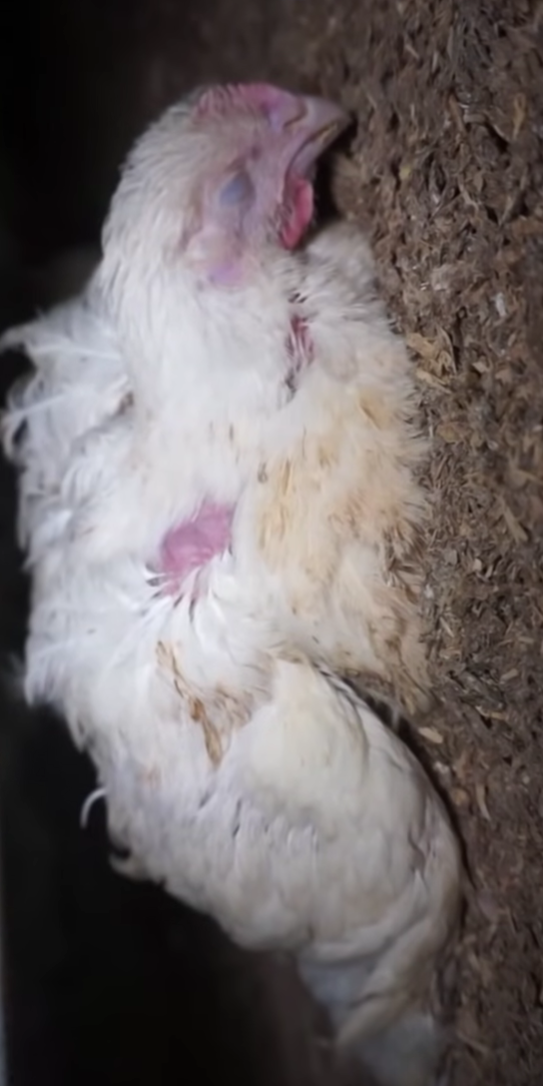Unhealthy: (19, 65, 498, 990)
